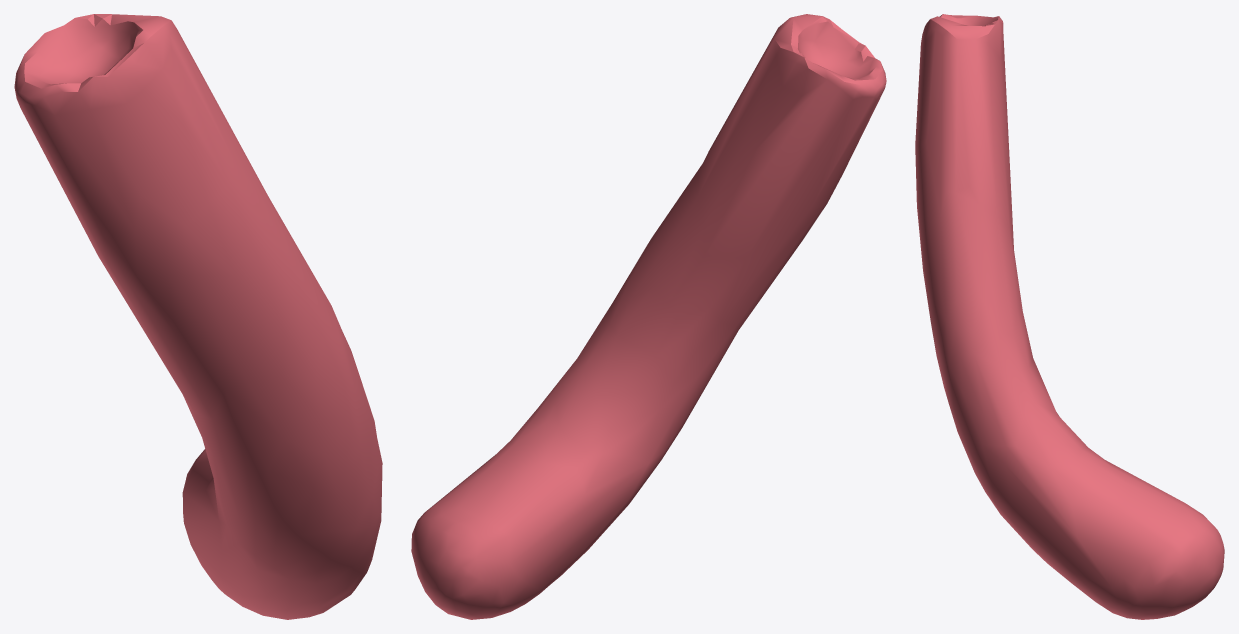
The model's file is fma14771.glb.
The picture shows the model from 3 angles, left to right: view 1: azimuth 30°, elevation 25°; view 2: azimuth 150°, elevation 25°; view 3: azimuth 270°, elevation 25°; orthographic projection. The views are drawn at different scales.
Visible parts, largest first — view 1: FMA14771; view 2: FMA14771; view 3: FMA14771.
Boxes of the visible parts, <box> form: FMA14771: <box>14,14,382,619</box>; FMA14771: <box>411,14,886,619</box>; FMA14771: <box>915,14,1224,619</box>.
Size of the model in its own units: 0.0204 by 0.0308 by 0.0172.
